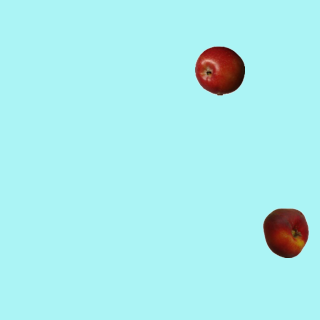Apple Braeburn: (194, 45, 244, 95)
Nectarine Flat: (260, 207, 310, 257)
